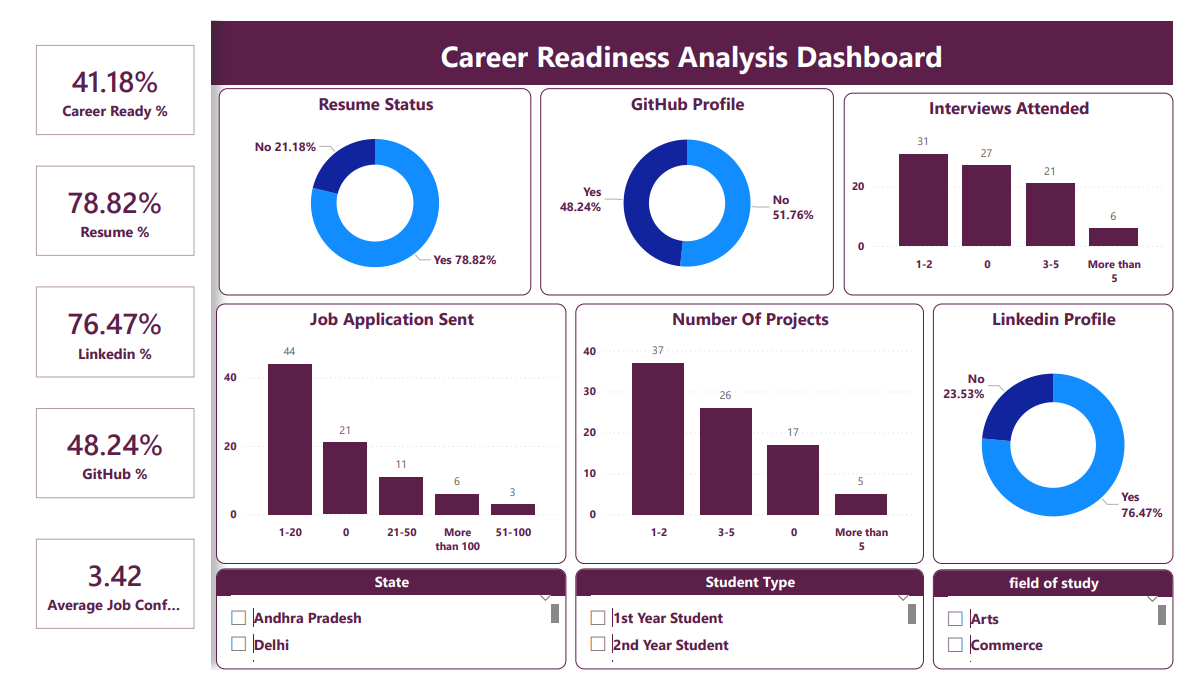

This screenshot's page, from the dashboard's own definition file:
{"tool":"powerbi","page":{"name":"Career Readiness","canvas":[1280,720],"ordinal":2},"visuals":[{"type":"shape","box":[0,0,1280.5,70.6],"z":0},{"type":"textbox","box":[210.9,10.9,1068.8,59.4],"z":1000},{"type":"shape","box":[0,0,210.9,720.3],"z":2000},{"type":"cardVisual","fields":{"Data":["Measure_Table.Career Ready %"]},"box":[0,10.2,209.9,134.1],"z":3000},{"type":"cardVisual","fields":{"Data":["Measure_Table.Resume %"]},"box":[0,144.3,209.9,134.1],"z":4000},{"type":"cardVisual","fields":{"Data":["Measure_Table.Linkedin %"]},"box":[0,278.5,209.9,134.1],"z":5000},{"type":"cardVisual","fields":{"Data":["Measure_Table.GitHub %"]},"box":[0,412.6,209.9,134.1],"z":6000},{"type":"cardVisual","fields":{"Data":["Measure_Table.Average Job Confidence"]},"box":[0,558.4,209.9,134.1],"z":7000},{"type":"donutChart","title":"Resume Status","fields":{"Y":["Measure_Table.Student Count"],"Category":["Dim_CareerAssets.has_resume"]},"box":[220.3,75,346.9,229.7],"z":8000},{"type":"donutChart","title":"Linkedin Profile","fields":{"Y":["Measure_Table.Student Count"],"Category":["Dim_CareerAssets.has_linkedin"]},"box":[1012.5,314.1,267.2,289.1],"z":9000},{"type":"donutChart","title":"GitHub Profile","fields":{"Y":["Measure_Table.Student Count"],"Category":["Dim_CareerAssets.has_github"]},"box":[576.6,75,326.6,229.7],"z":10000},{"type":"clusteredColumnChart","title":"Number Of Projects","fields":{"Y":["Measure_Table.Student Count"],"Category":["Dim_CareerAssets.project_count"]},"box":[615.6,314.1,387.5,289.1],"z":11000},{"type":"clusteredColumnChart","title":"Job Application Sent","fields":{"Y":["Measure_Table.Student Count"],"Category":["Dim_CareerAssets.job_applications"]},"box":[217.2,314.1,389.1,289.1],"z":12000},{"type":"clusteredColumnChart","title":"Interviews Attended","fields":{"Y":["Measure_Table.Student Count"],"Category":["Dim_CareerAssets.interview_count"]},"box":[914.1,79.7,365.6,225],"z":13000},{"type":"slicer","title":"State","fields":{"Values":["Dim_Education.state"]},"box":[217.2,607.8,389.1,112.5],"z":14000},{"type":"slicer","title":"Student Type","fields":{"Values":["Fact_StudentSurvey.student_type"]},"box":[615.6,607.8,387.5,112.5],"z":15000},{"type":"slicer","title":"field of study","fields":{"Values":["Dim_Education.field_of_study"]},"box":[1012.5,609.4,267.2,110.9],"z":16000}]}

Visuals, with their boxes in screenshot pixels (x1, y1, x2, y2), scaled from the page's 1280x720 canvas onto the 1195x688 screenshot:
shape: left=0, top=0, right=1194, bottom=67
textbox: left=197, top=10, right=1194, bottom=67
shape: left=0, top=0, right=197, bottom=687
cardVisual - Measure_Table.Career Ready %: left=0, top=10, right=196, bottom=138
cardVisual - Measure_Table.Resume %: left=0, top=138, right=196, bottom=266
cardVisual - Measure_Table.Linkedin %: left=0, top=266, right=196, bottom=394
cardVisual - Measure_Table.GitHub %: left=0, top=394, right=196, bottom=522
cardVisual - Measure_Table.Average Job Confidence: left=0, top=534, right=196, bottom=662
"Resume Status" donutChart: left=206, top=72, right=530, bottom=291
"Linkedin Profile" donutChart: left=945, top=300, right=1194, bottom=576
"GitHub Profile" donutChart: left=538, top=72, right=843, bottom=291
"Number Of Projects" clusteredColumnChart: left=575, top=300, right=936, bottom=576
"Job Application Sent" clusteredColumnChart: left=203, top=300, right=566, bottom=576
"Interviews Attended" clusteredColumnChart: left=853, top=76, right=1194, bottom=291
"State" slicer: left=203, top=581, right=566, bottom=687
"Student Type" slicer: left=575, top=581, right=936, bottom=687
"field of study" slicer: left=945, top=582, right=1194, bottom=687
